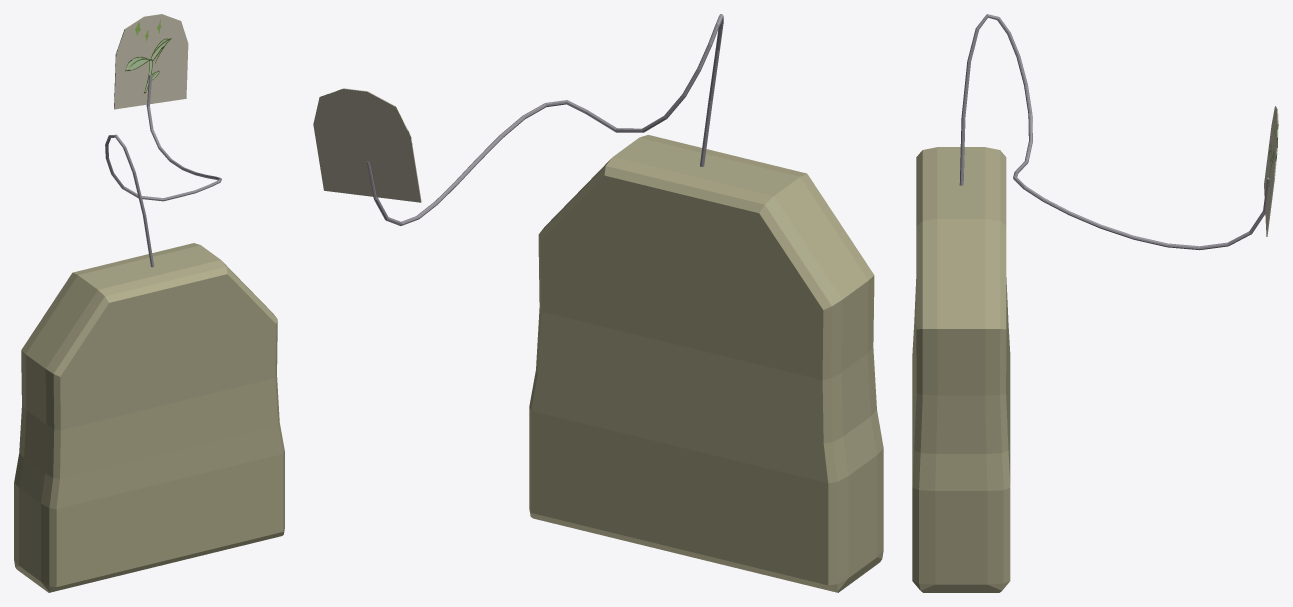
Rendered from teabag.glb.
3 views of the same model, side by side, from view 1: azimuth 30°, elevation 25°; view 2: azimuth 150°, elevation 25°; view 3: azimuth 270°, elevation 25° (orthographic). The views are drawn at different scales.
Parts seen in each view (by area): view 1: Teabag, Tag, String; view 2: Teabag, Tag, String; view 3: Teabag, String, Tag.
Part boxes in pixels (x1,y1,x2,y2): Teabag: (14,243,284,592); Tag: (114,14,188,109); String: (105,75,221,267); Teabag: (529,135,883,592); Tag: (313,88,421,202); String: (367,14,723,225); Teabag: (912,147,1010,592); String: (959,14,1269,250); Tag: (1264,106,1278,236).
Bounding box in the file's own units: 0.6614 × 0.9165 × 0.6063.
Materials: 4 (1 with a texture image).
